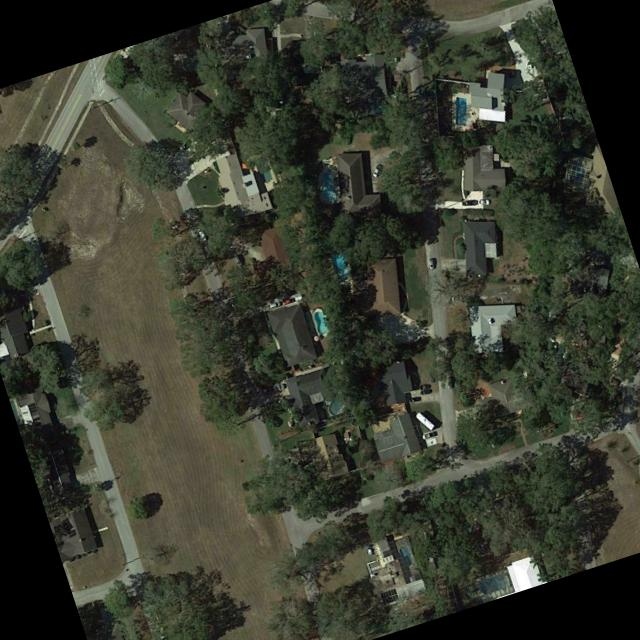small-vehicle: (233, 254, 244, 268), (197, 226, 207, 241), (372, 163, 382, 178), (157, 626, 167, 640), (421, 430, 436, 439), (526, 60, 537, 71), (461, 198, 478, 205), (272, 381, 285, 390), (365, 542, 374, 555), (182, 138, 192, 149), (419, 382, 431, 391), (280, 297, 292, 306), (268, 300, 281, 308), (420, 387, 433, 395), (408, 395, 421, 402), (292, 293, 304, 300), (428, 257, 435, 269), (446, 376, 453, 388), (479, 198, 489, 204)
